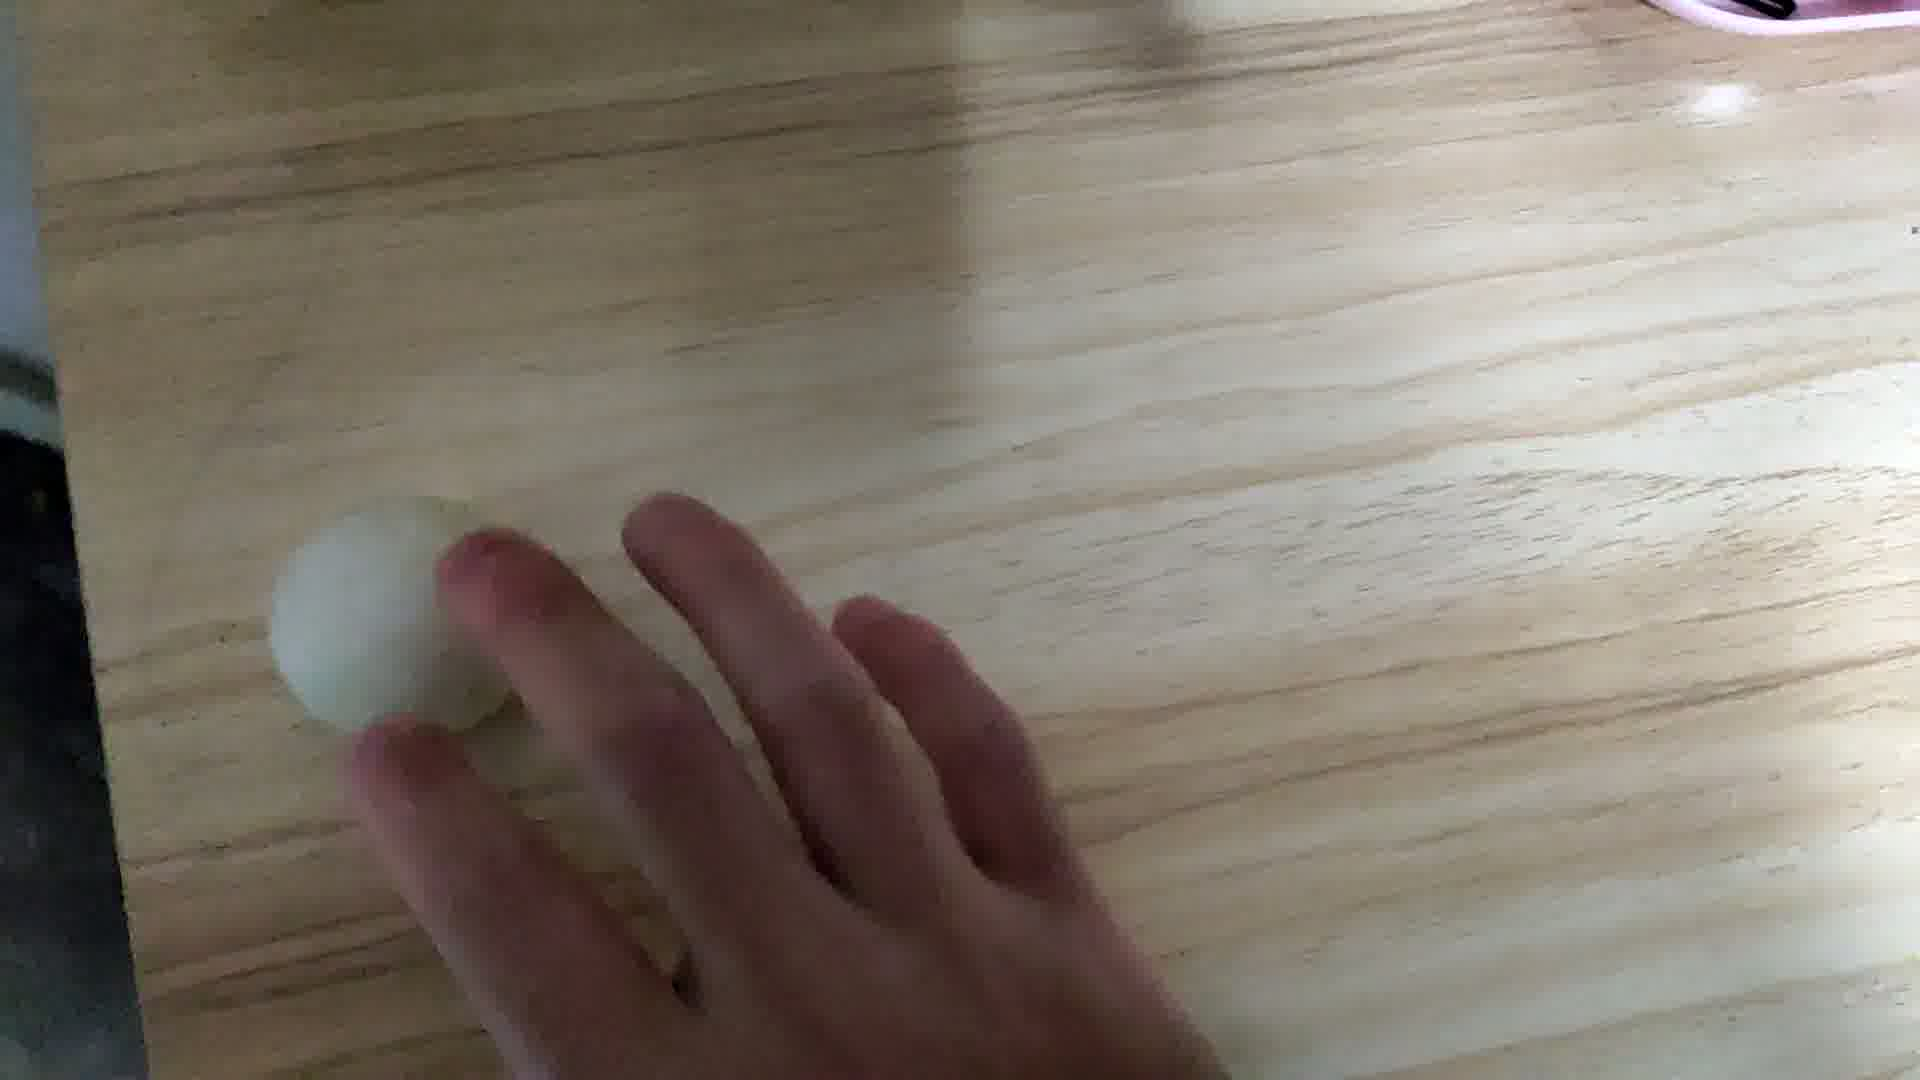Ball: (266, 498, 535, 742)
